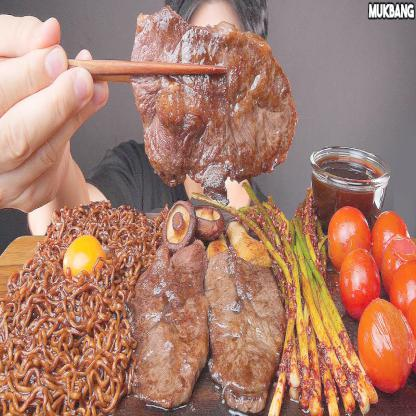Carne: (133, 0, 292, 172), (208, 245, 282, 412), (137, 240, 205, 408)
